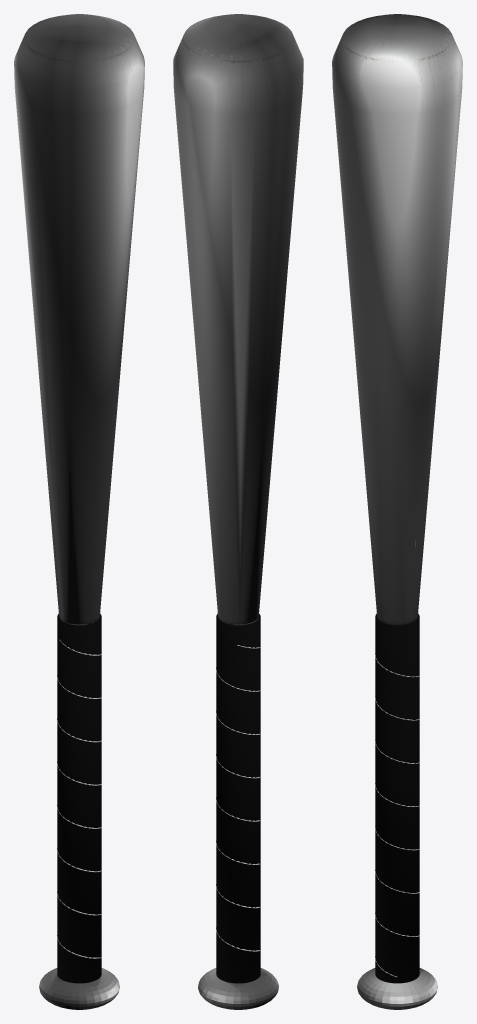
Rendered from 新品バット.fbx.
3 renders of one model, left to right at view 1: azimuth 90°, elevation 25°; view 2: azimuth 150°, elevation 25°; view 3: azimuth 270°, elevation 25°, orthographic.
Visible parts, largest first — view 1: 先, グリップテープ, グリップエンド, テープの間; view 2: 先, グリップテープ, グリップエンド, テープの間; view 3: 先, グリップテープ, グリップエンド, テープの間.
Boxes of the visible parts, <box> form: 先: <box>14,14,144,624</box>; グリップテープ: <box>57,613,101,983</box>; グリップエンド: <box>39,968,119,1009</box>; テープの間: <box>57,639,101,958</box>; 先: <box>173,14,303,624</box>; グリップテープ: <box>216,613,260,983</box>; グリップエンド: <box>198,968,278,1009</box>; テープの間: <box>216,645,260,951</box>; 先: <box>332,14,462,625</box>; グリップテープ: <box>375,613,419,983</box>; グリップエンド: <box>357,968,437,1009</box>; テープの間: <box>375,654,419,977</box>.
Bounding box in the file's own units: 168 × 1383 × 168.
Materials: 3 (1 with a texture image).
